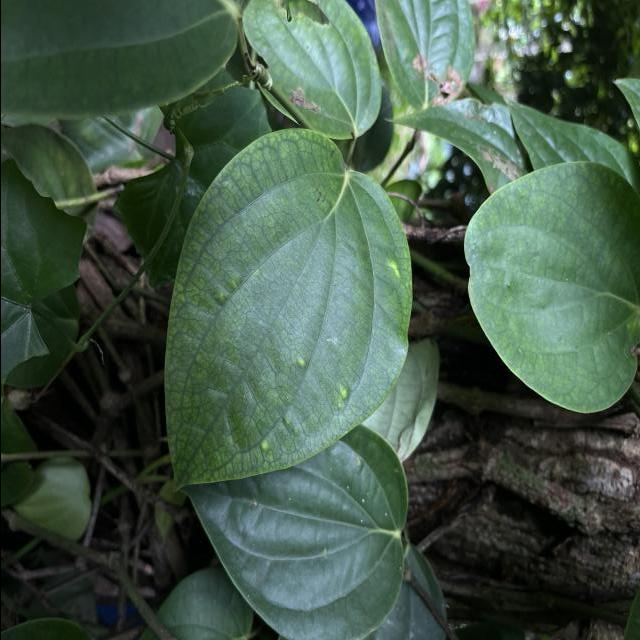Piper nigrum: (160, 123, 415, 493)
